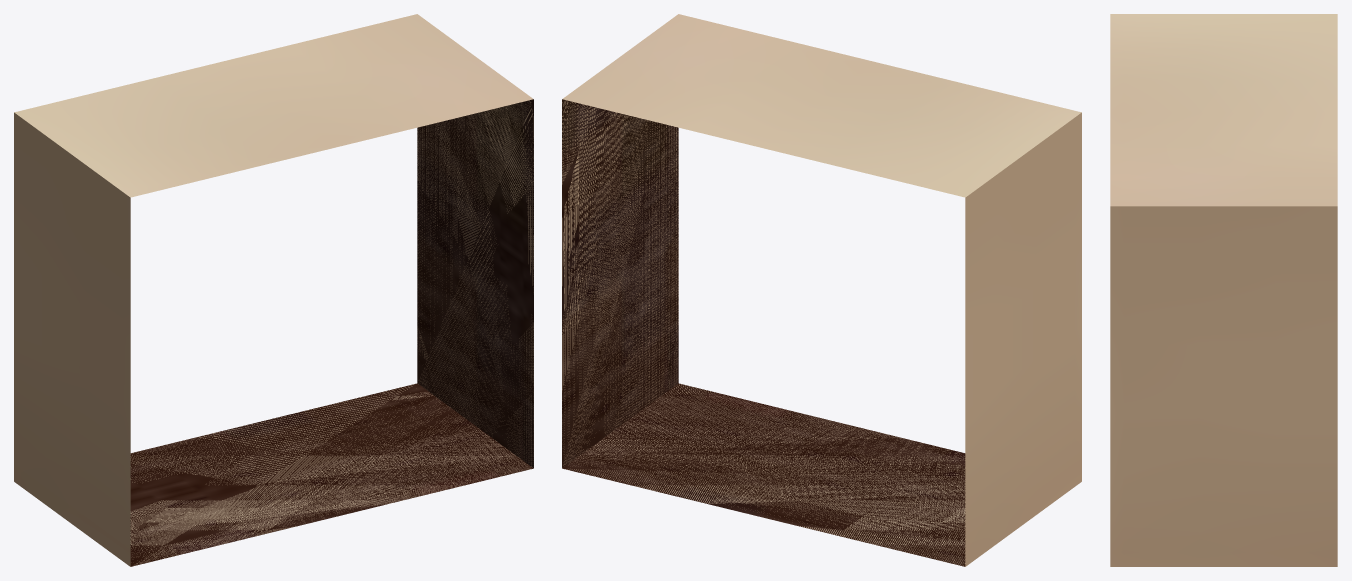
File: original-28.obj
3 views of the same model, side by side, from view 1: azimuth 30°, elevation 25°; view 2: azimuth 150°, elevation 25°; view 3: azimuth 270°, elevation 25° (orthographic). The views are drawn at different scales.
Visible parts, largest first — view 1: #ID262; view 2: #ID262; view 3: #ID262.
Part boxes in pixels (bbox=[...]): #ID262: bbox=[14, 14, 533, 566]; #ID262: bbox=[562, 14, 1081, 566]; #ID262: bbox=[1110, 14, 1337, 566].
Bounding box in the file's own units: 0.0223 × 0.0196 × 0.0112.
